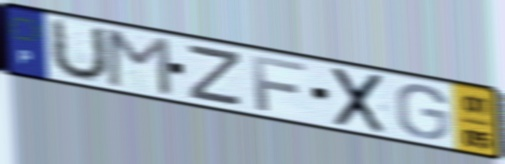F: (249, 53, 309, 114)
G: (394, 83, 452, 141)
M: (104, 27, 175, 99)
U: (48, 16, 112, 84)
X: (330, 65, 387, 136)
Z: (186, 43, 245, 109)
